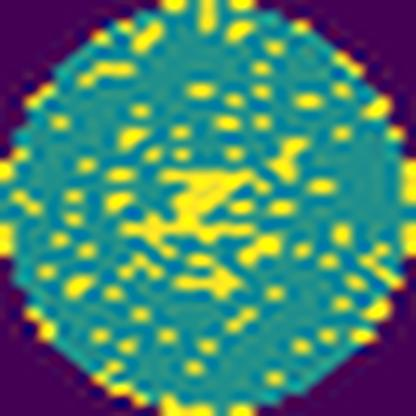Center: (116, 168, 288, 306)
